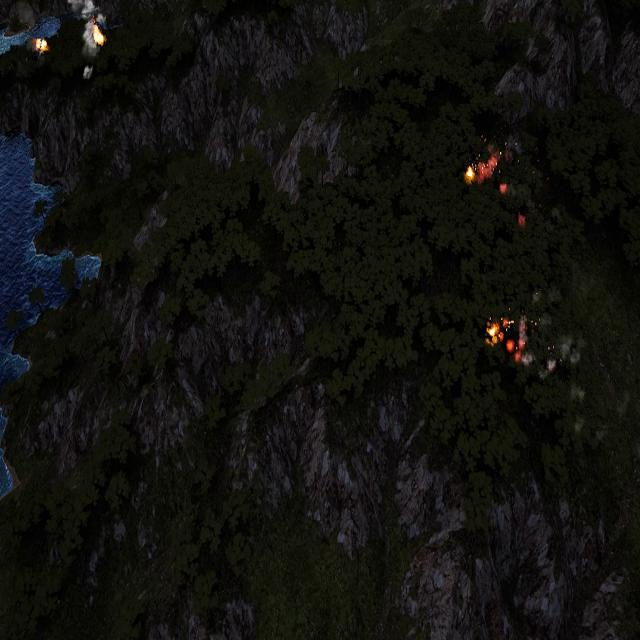fire: (466, 151, 498, 185), (487, 322, 503, 345), (94, 26, 105, 46), (34, 38, 48, 52)
smoke: (516, 318, 585, 385), (66, 0, 102, 79), (18, 0, 36, 26)
